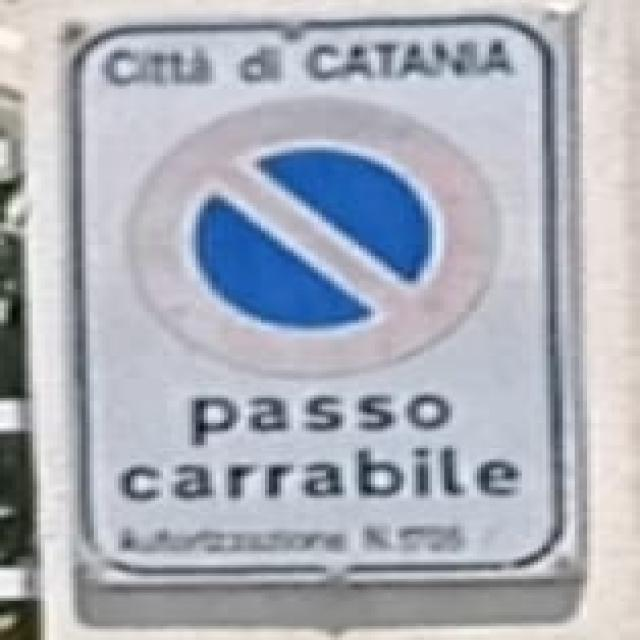forb_stopping: (120, 93, 507, 382)
